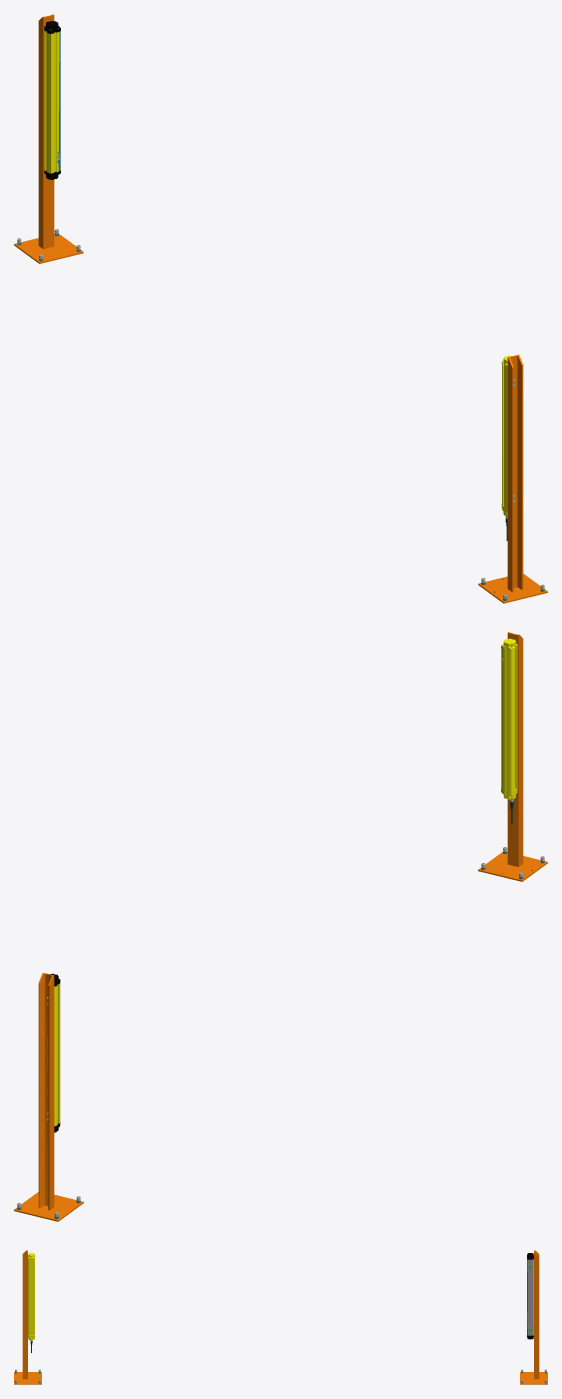
File: Light curtains.fbx
3 views of the same model, one above another, from view 1: azimuth 30°, elevation 25°; view 2: azimuth 150°, elevation 25°; view 3: azimuth 270°, elevation 25° (orthographic). The views are drawn at different scales.
Visible parts, largest first — view 1: EntrySensor.001, EntrySensor; view 2: EntrySensor, EntrySensor.001; view 3: EntrySensor, EntrySensor.001.
Boxes of the visible parts, bbox=[...] form: EntrySensor.001: bbox=[14, 14, 83, 263]; EntrySensor: bbox=[478, 354, 547, 603]; EntrySensor: bbox=[478, 632, 547, 881]; EntrySensor.001: bbox=[14, 973, 83, 1221]; EntrySensor: bbox=[14, 1250, 41, 1384]; EntrySensor.001: bbox=[520, 1250, 547, 1384].
Bounding box in the file's own units: 20.08 × 101 × 383.
